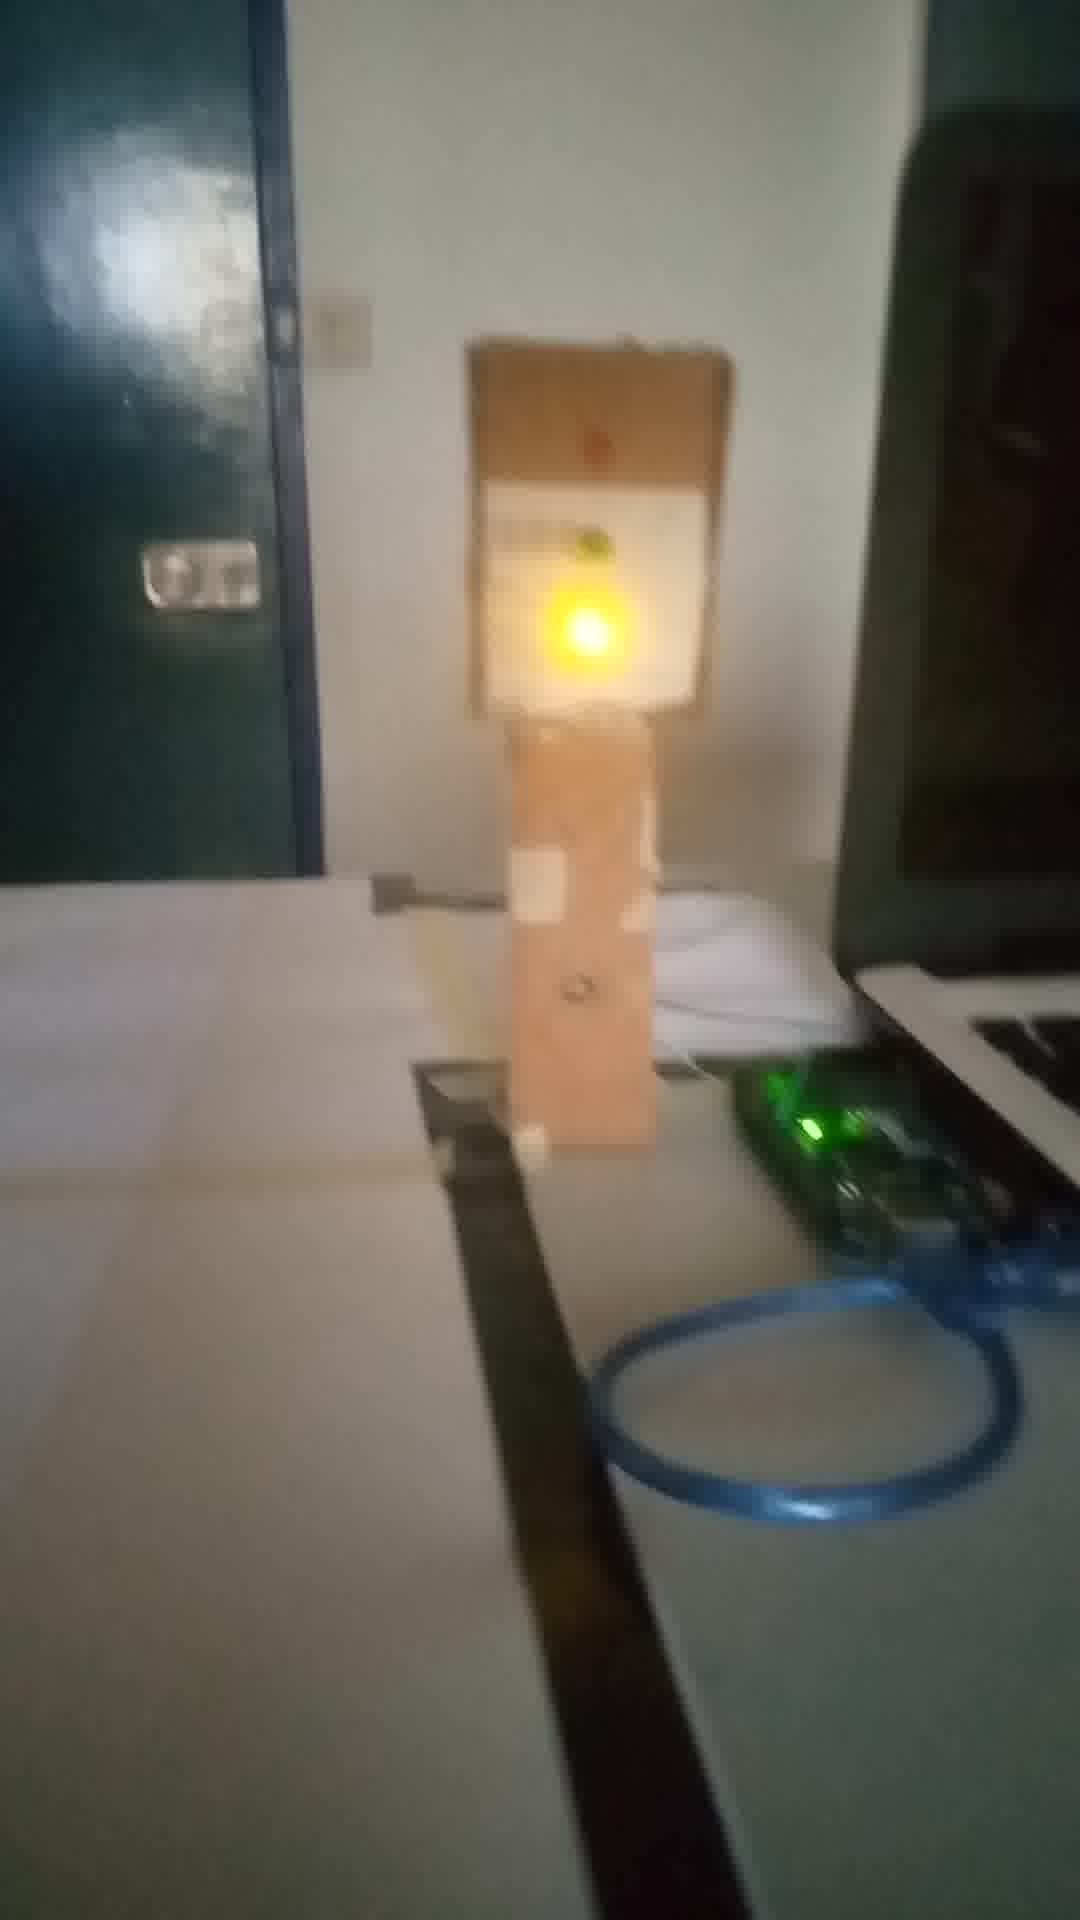green: (458, 338, 713, 720)
